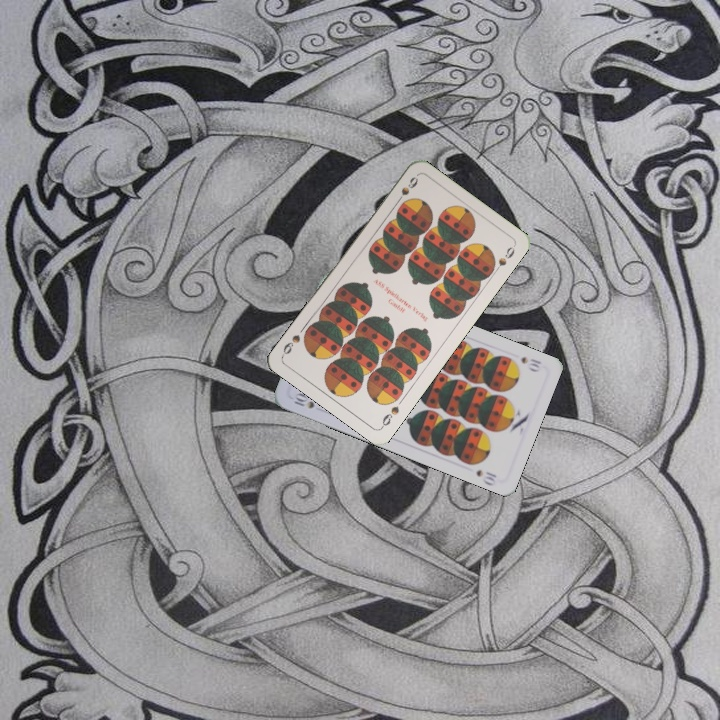S10: (288, 389, 317, 411), (517, 352, 544, 374)
S9: (391, 173, 421, 207), (377, 402, 402, 431)
